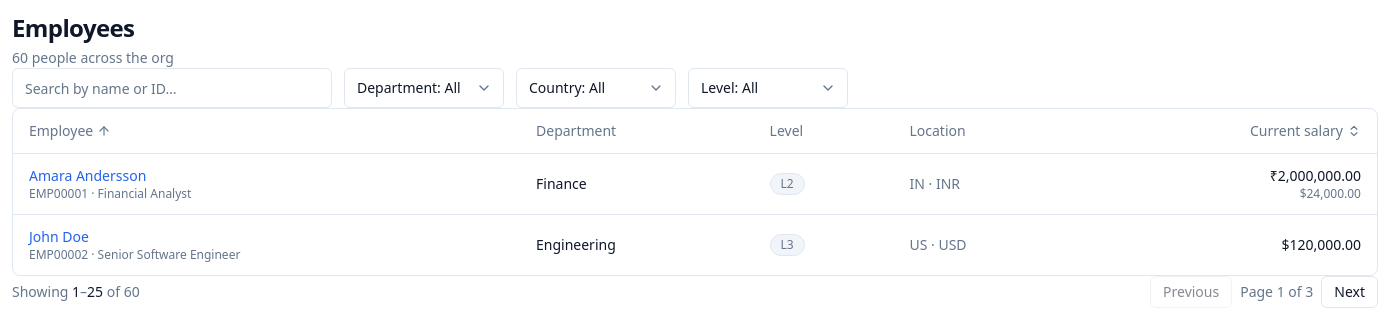
Test: EmployeesPage › renders rows with normalized pay and paginates
expect the link "Amara Andersson" is shown: met, box x1=29 y1=166 x2=146 y2=184
expect the text "₹2,000,000.00" is shown: met, box x1=1270 y1=166 x2=1361 y2=184
Click the button "Next" at (1350, 292), box x1=1321 y1=276 x2=1378 y2=308
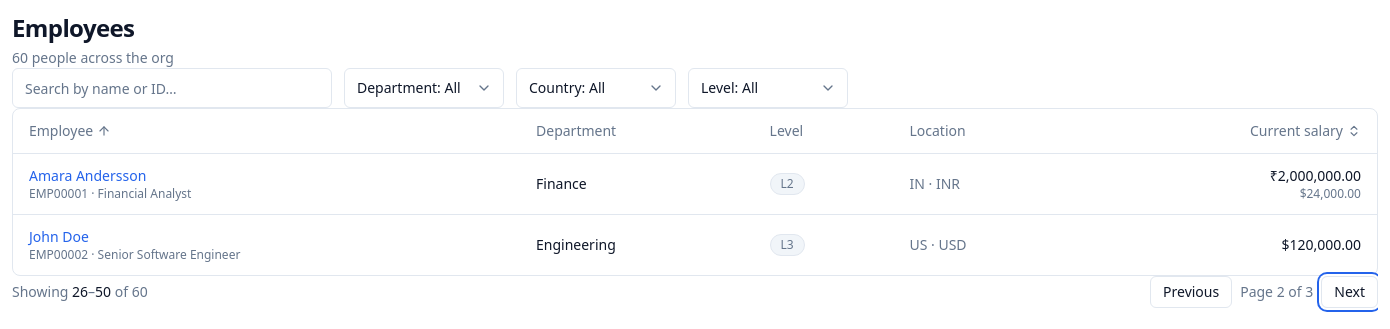
expect the text "Page 2 of 3" is shown: met, box x1=1240 y1=282 x2=1313 y2=302
Click the button "Previous" at (1191, 292), box x1=1150 y1=276 x2=1232 y2=308
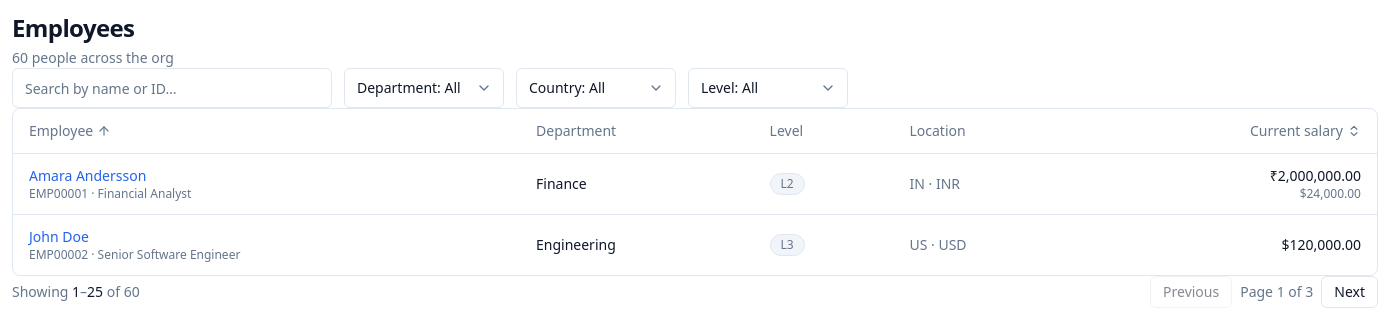
expect the text "Page 1 of 3" is shown: met, box x1=1240 y1=282 x2=1313 y2=302
